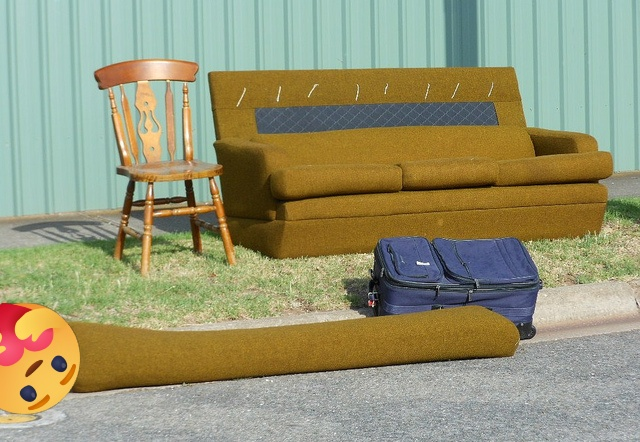care: (0, 303, 80, 414)
